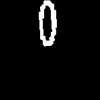chain: (39, 1, 56, 45)
